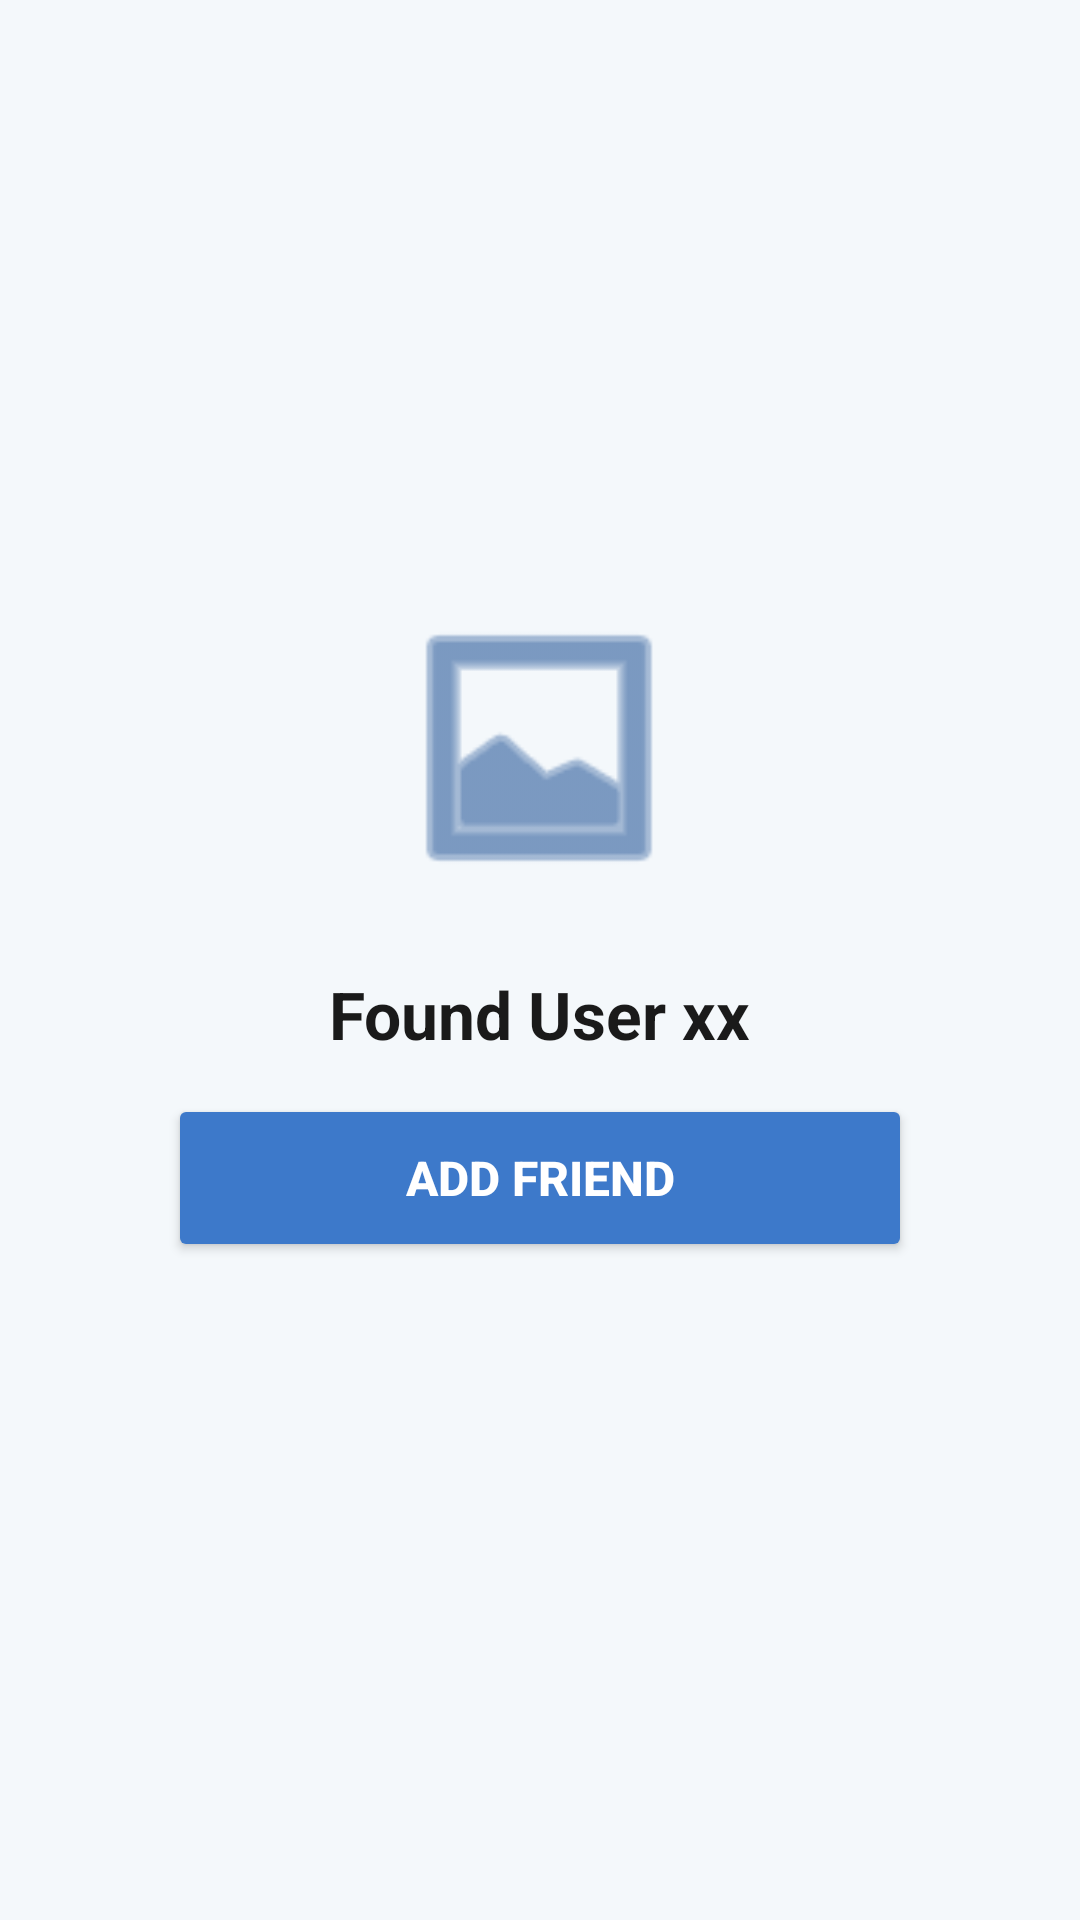

Named icons in this screenshot (1080w x 1920h) and their centers, (x=x, y=y):
gallery: (x=539, y=748)
